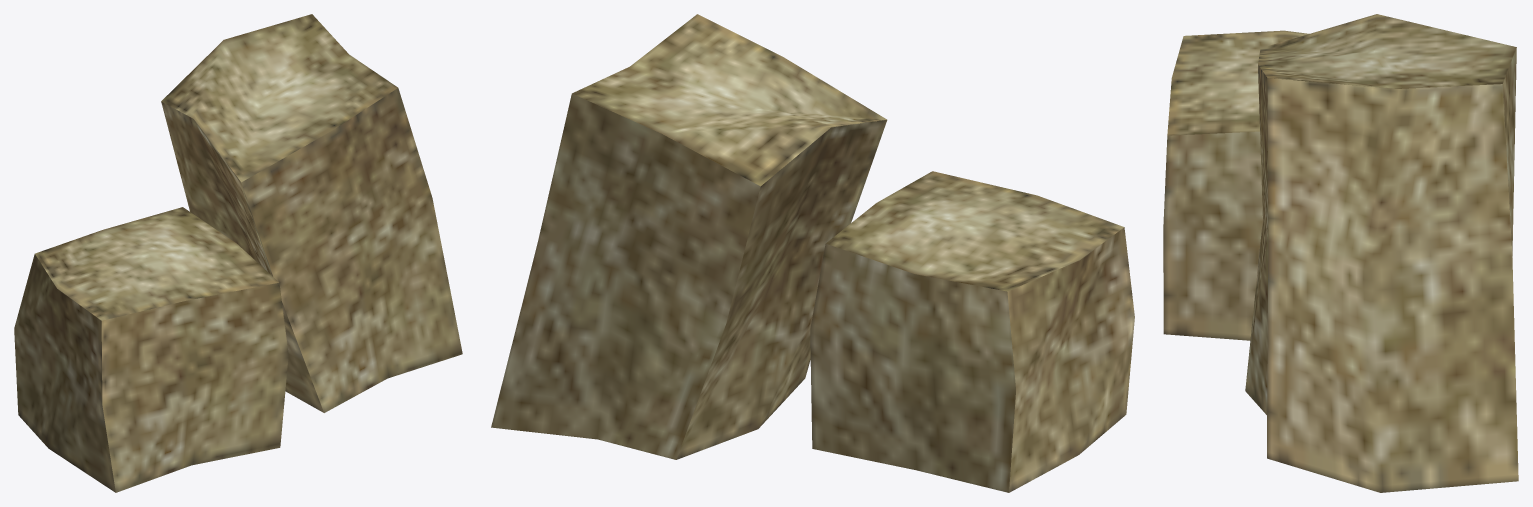
File: ob-bigstone04.fbx
The picture shows the model from 3 angles, left to right: view 1: azimuth 30°, elevation 25°; view 2: azimuth 150°, elevation 25°; view 3: azimuth 270°, elevation 25°; orthographic projection. The views are drawn at different scales.
Parts seen in each view (by area): view 1: Box01; view 2: Box01; view 3: Box01.
Part boxes in pixels (left/top/right/bottom): Box01: left=14, top=14, right=462, bottom=492; Box01: left=491, top=14, right=1134, bottom=492; Box01: left=1163, top=14, right=1518, bottom=492.
Bounding box in the file's own units: 5.46 × 3.7 × 3.27.
